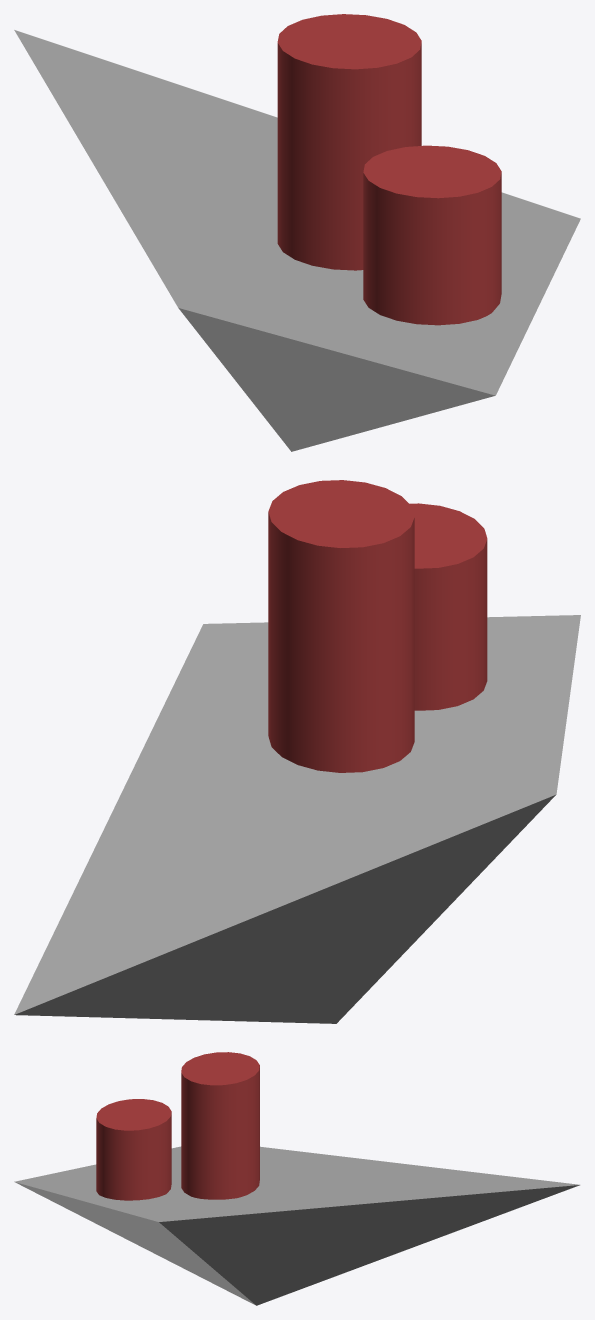
Rendered from Navio.fbx.
3 views of the same model, one above another, from view 1: azimuth 30°, elevation 25°; view 2: azimuth 150°, elevation 25°; view 3: azimuth 270°, elevation 25° (orthographic). The views are drawn at different scales.
Visible parts, largest first — view 1: pPyramid1, pCylinder1, pCylinder2; view 2: pPyramid1, pCylinder1, pCylinder2; view 3: pPyramid1, pCylinder1, pCylinder2.
Part boxes in pixels (left/top/right/bottom): pPyramid1: left=14, top=30, right=580, bottom=451; pCylinder1: left=277, top=14, right=421, bottom=270; pCylinder2: left=363, top=145, right=501, bottom=325; pPyramid1: left=14, top=615, right=580, bottom=1023; pCylinder1: left=268, top=480, right=414, bottom=772; pCylinder2: left=409, top=503, right=487, bottom=710; pPyramid1: left=14, top=1146, right=579, bottom=1305; pCylinder1: left=181, top=1052, right=259, bottom=1199; pCylinder2: left=96, top=1099, right=171, bottom=1200.
Bounding box in the file's own units: 2.59 × 2.94 × 6.17.
